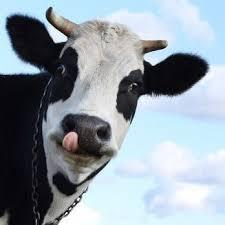cow: (1, 6, 210, 225)
